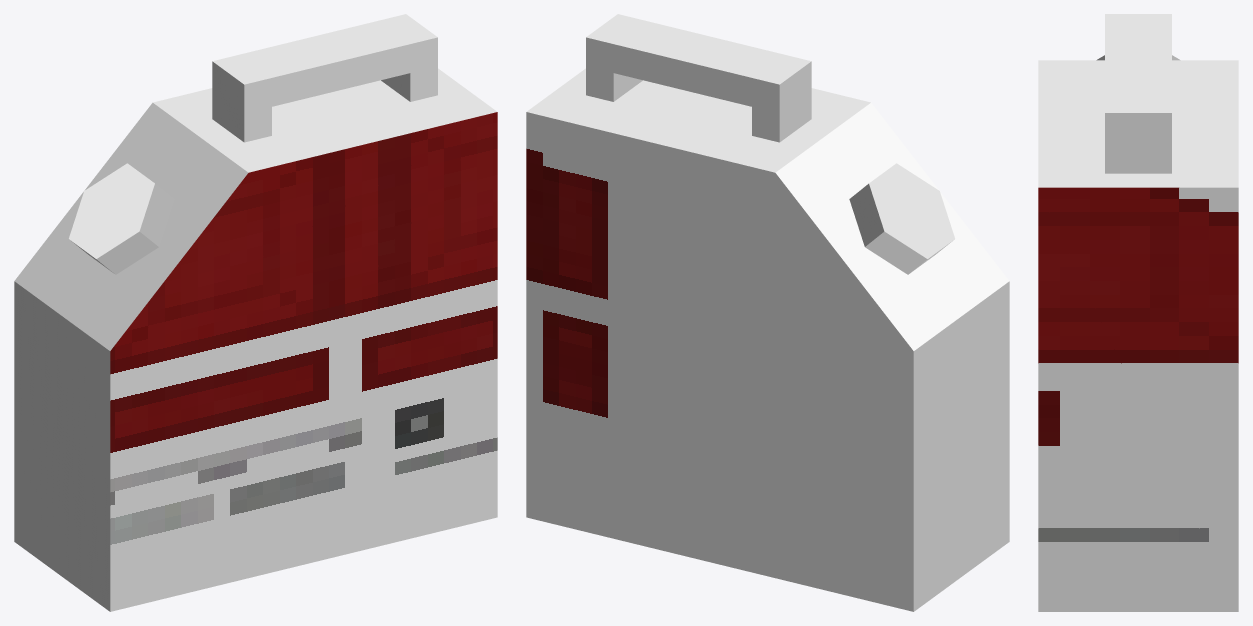
The model's file is gascan.obj.
3 views of the same model, side by side, from view 1: azimuth 30°, elevation 25°; view 2: azimuth 150°, elevation 25°; view 3: azimuth 270°, elevation 25° (orthographic). The views are drawn at different scales.
Visible parts, largest first — view 1: group_1, group_2, group_3; view 2: group_1, group_2, group_3; view 3: group_1, group_2.
Part boxes in pixels (x1,y1,x2,y2): group_1: (14, 68, 497, 611); group_2: (212, 14, 437, 142); group_3: (69, 163, 174, 274); group_1: (526, 68, 1009, 611); group_2: (586, 14, 811, 142); group_3: (849, 163, 954, 274); group_1: (1038, 60, 1238, 611); group_2: (1105, 14, 1171, 173).
Size of the model in its own units: 88.19 by 101 by 37.8.
